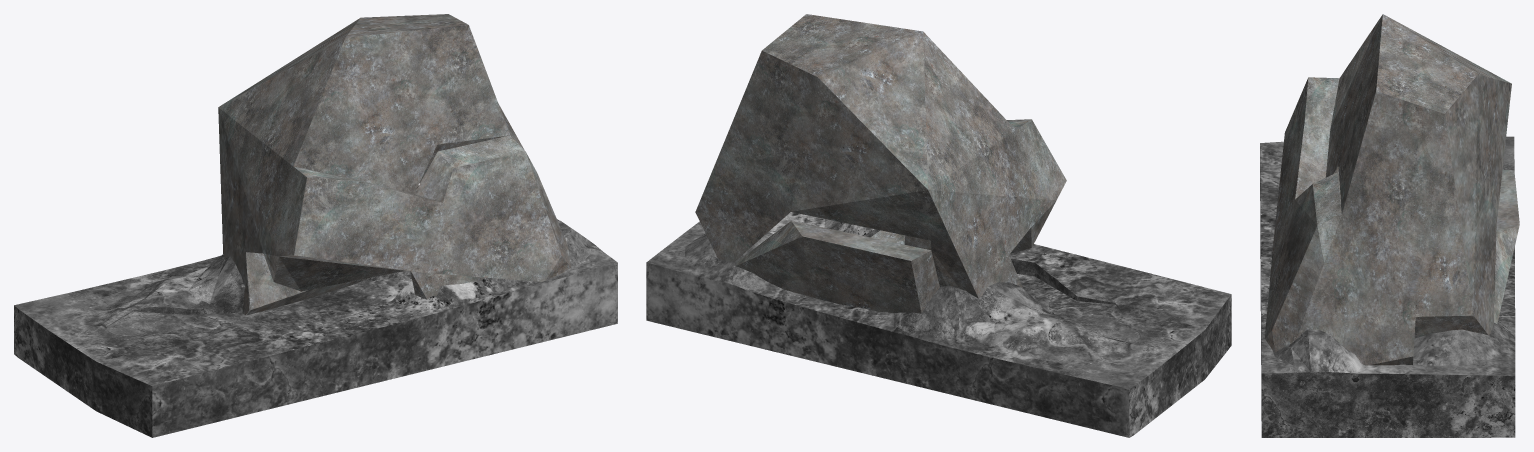
File: mass.glb
The picture shows the model from 3 angles, left to right: view 1: azimuth 30°, elevation 25°; view 2: azimuth 150°, elevation 25°; view 3: azimuth 270°, elevation 25°; orthographic projection. The views are drawn at different scales.
Parts seen in each view (by area): view 1: skin.019, Object_1.007; view 2: skin.019, Object_1.007; view 3: skin.019, Object_1.007.
Boxes of the visible parts, x1,y1,x2,y2 form: skin.019: (218, 14, 570, 315); Object_1.007: (14, 219, 617, 437); skin.019: (695, 14, 1066, 313); Object_1.007: (646, 212, 1231, 437); skin.019: (1265, 14, 1519, 365); Object_1.007: (1260, 136, 1515, 437).
Bounding box in the file's own units: 45.55 × 26.62 × 20.01.
2 materials, 2 textured.
